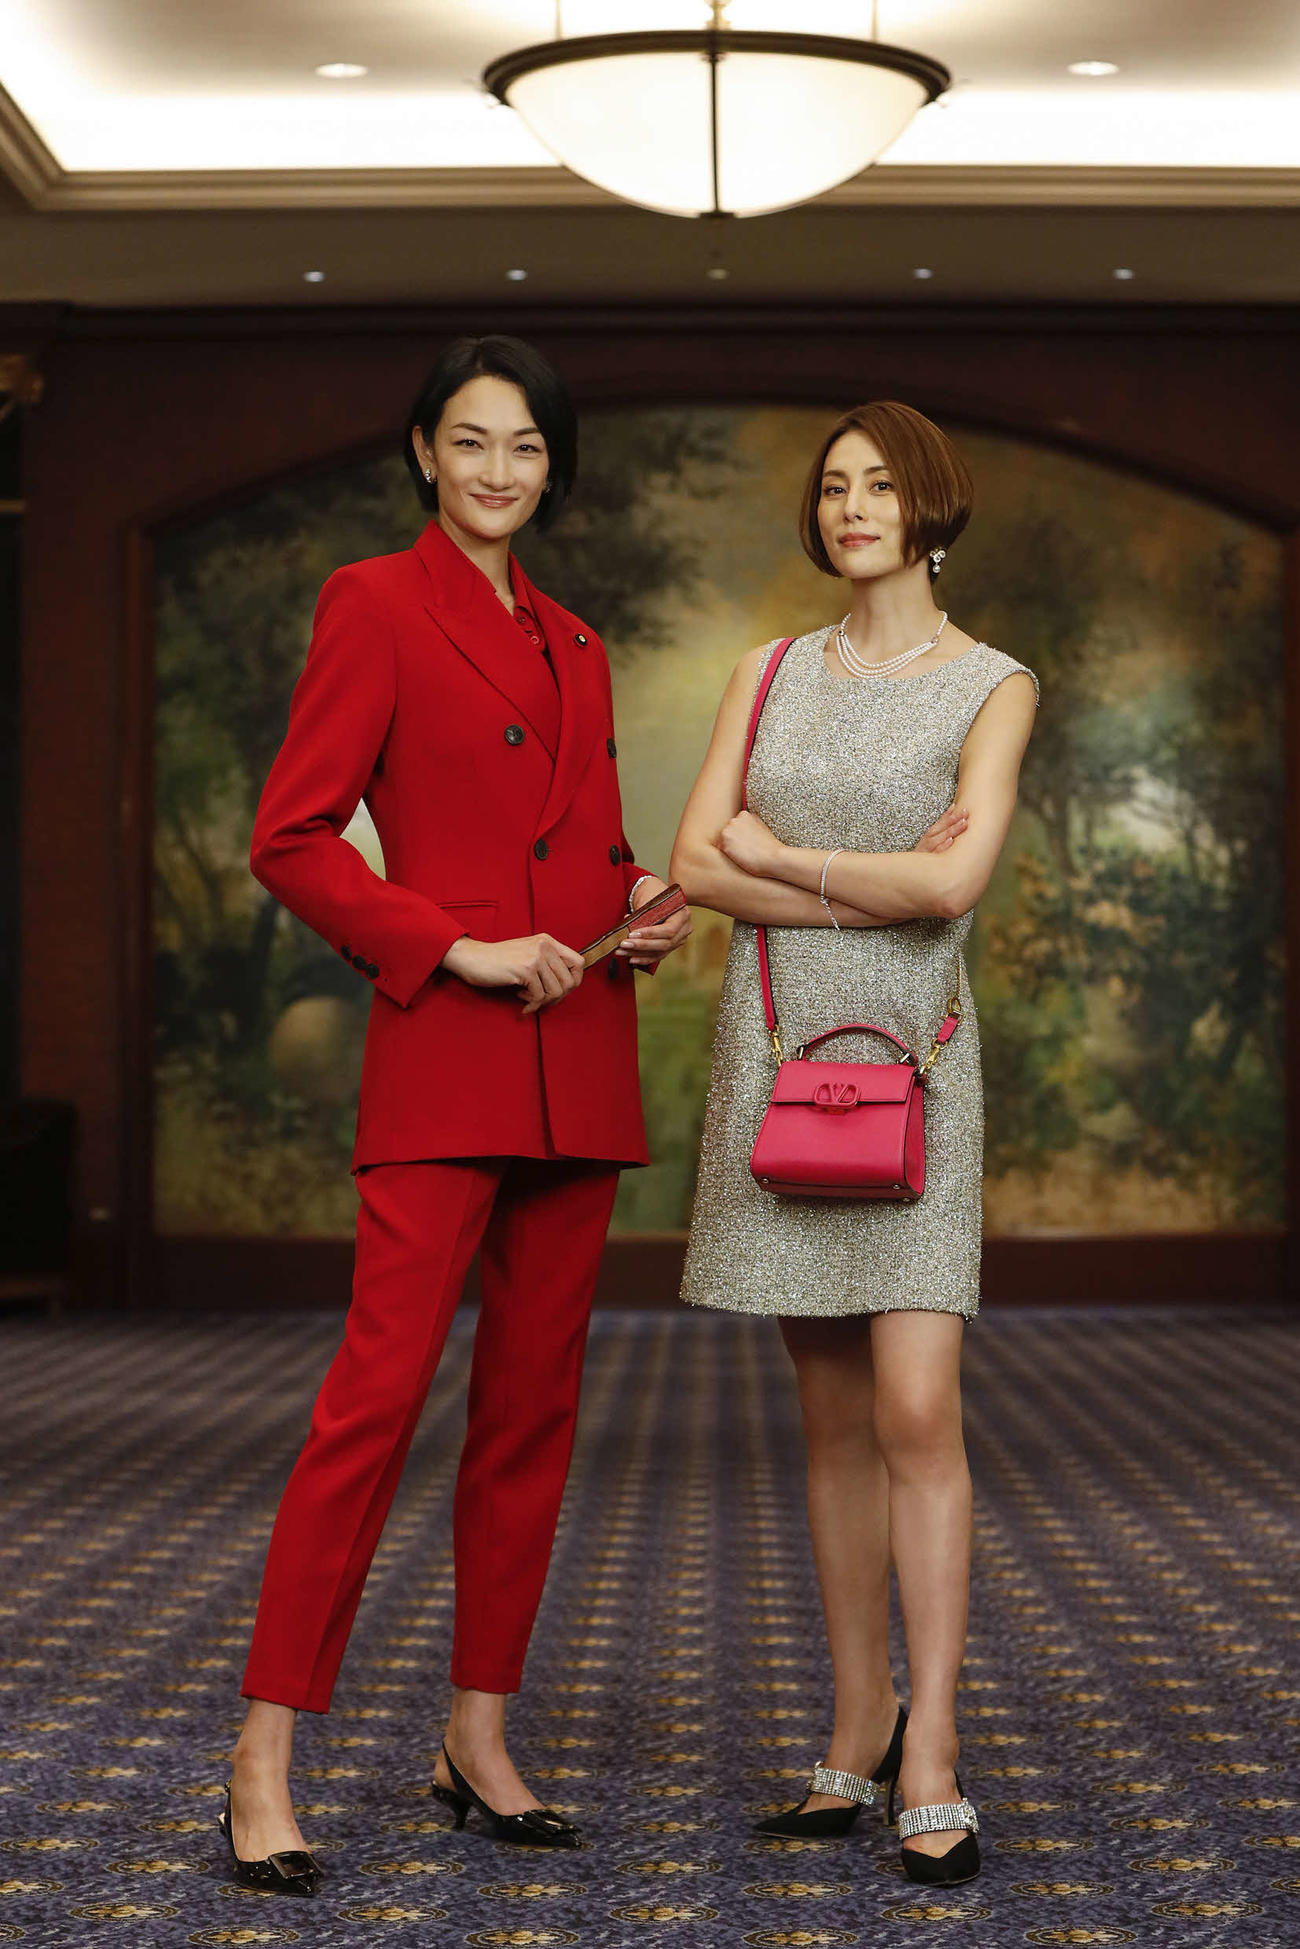female: (207, 331, 686, 1905), (666, 402, 1055, 1891)
